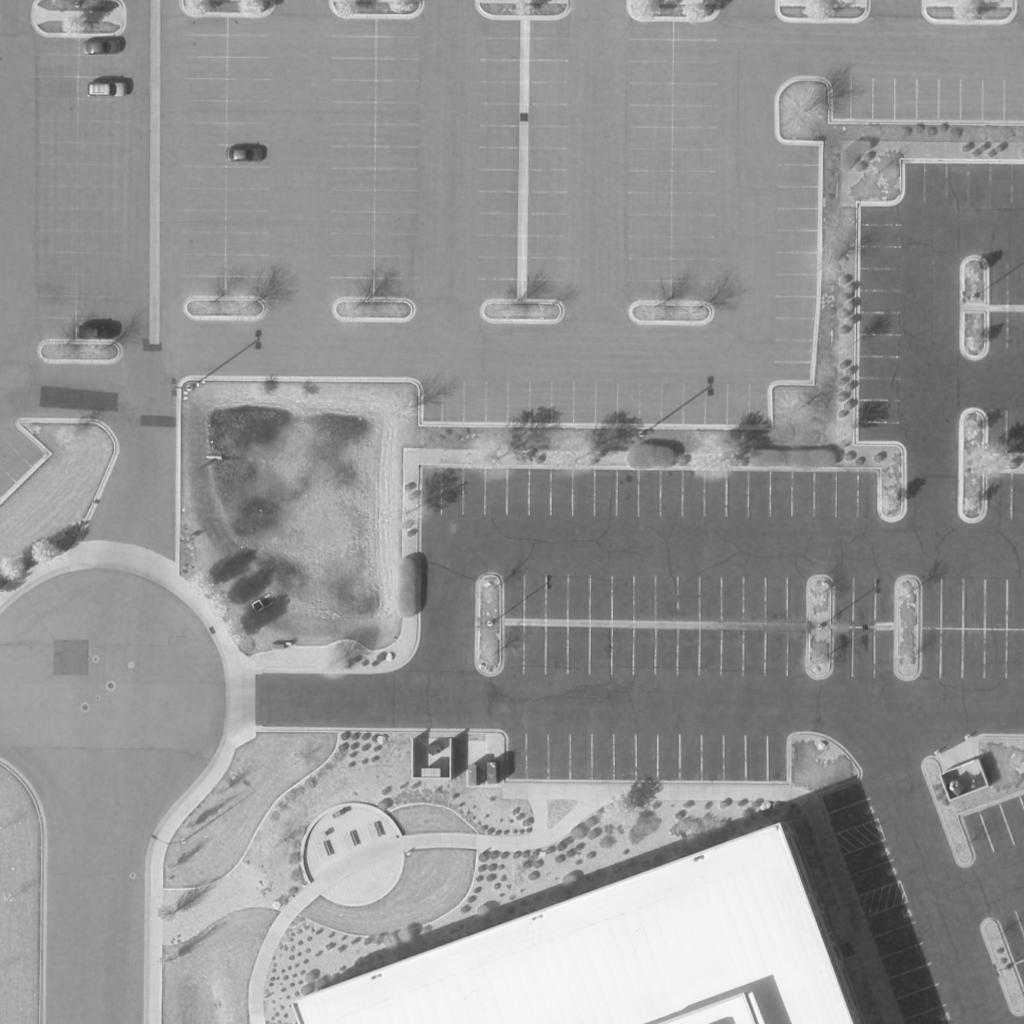vehicle: (85, 80, 129, 98), (81, 38, 125, 54), (224, 148, 268, 162)
